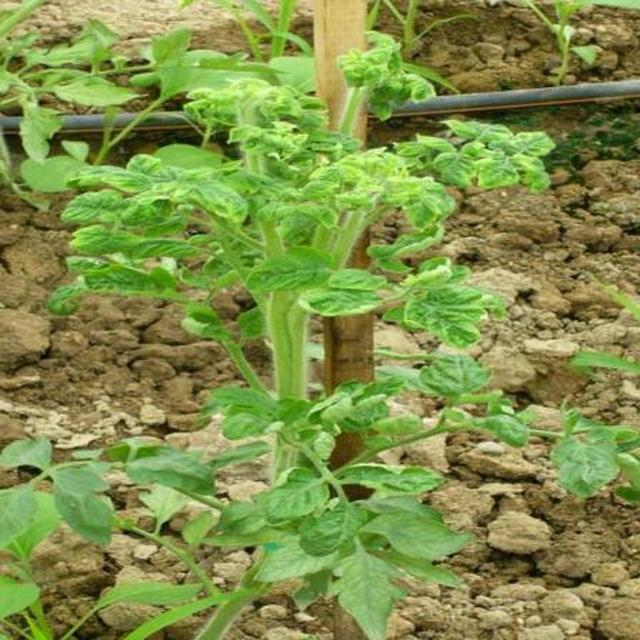Yellow Leaf Curl Virus: (53, 27, 640, 640)
